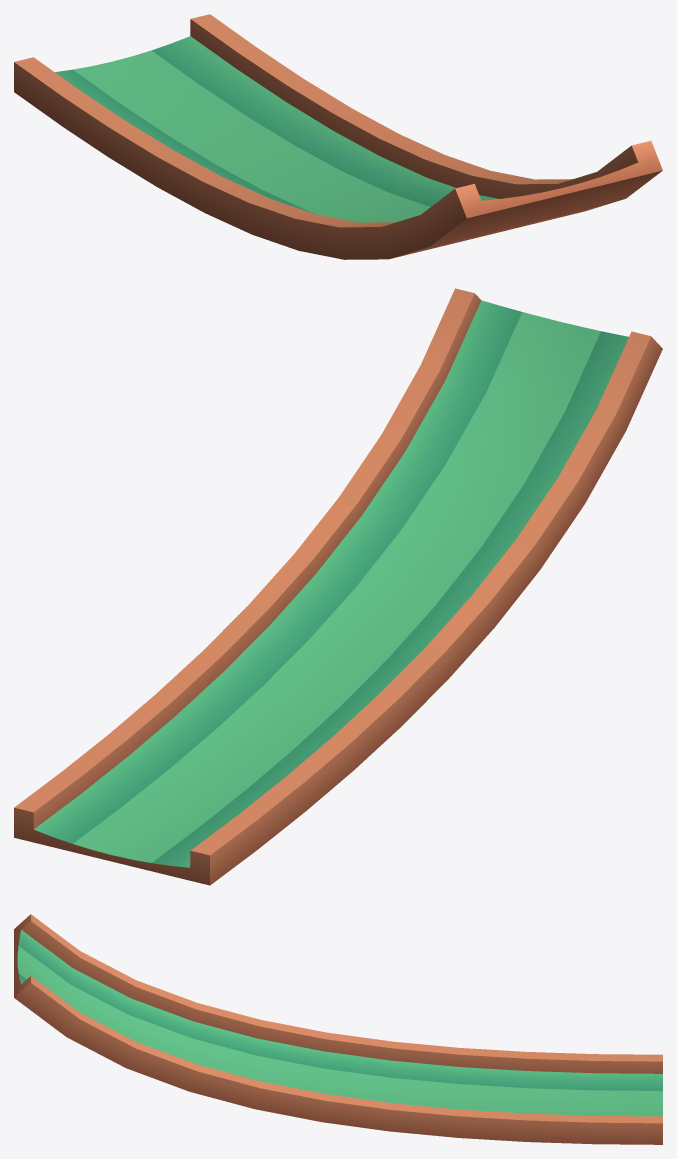
Rendered from spline-concave-straight-hill-beginning.glb.
3 renders of one model, top to bottom at view 1: azimuth 30°, elevation 25°; view 2: azimuth 150°, elevation 25°; view 3: azimuth 270°, elevation 25°, orthographic. The views are drawn at different scales.
Visible parts, largest first — view 1: spline-concave-straight-hill-beginning; view 2: spline-concave-straight-hill-beginning; view 3: spline-concave-straight-hill-beginning.
Part boxes in pixels (box(x1,y1,x2,y2)): spline-concave-straight-hill-beginning: box(14, 14, 662, 259); spline-concave-straight-hill-beginning: box(14, 288, 662, 885); spline-concave-straight-hill-beginning: box(14, 914, 662, 1144).
Bounding box in the file's own units: 1 × 1.1 × 4.
Materials: 1 (1 with a texture image).
